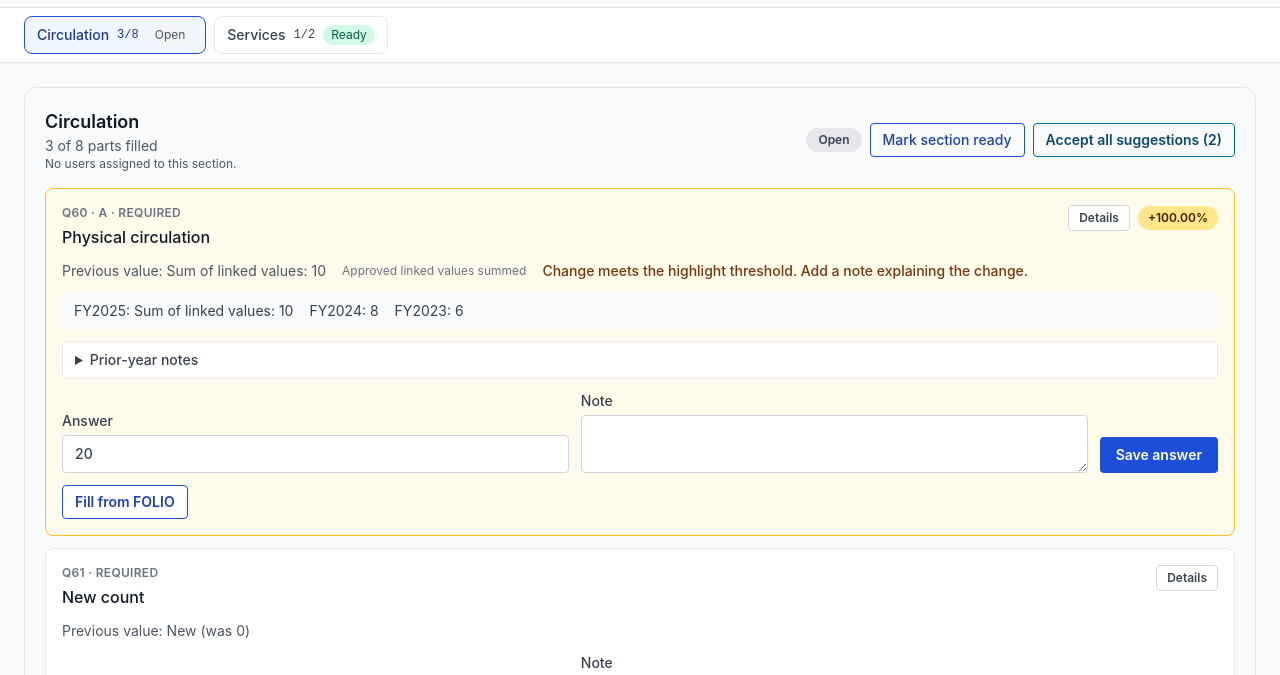
Test: ACRL entry page › shows three prior years and expands historical notes
The width and height of the screenshot is (1280, 675).
(page scrolled)
Expected: the text "3 of 8 parts filled" is shown, [45,137,158,154]
Expected: the text "FY2025: Sum of linked values: 10" is shown, [74,301,293,321]
Step 1. Click the heading "Prior-year notes" → (144, 360), box [90,351,198,368]
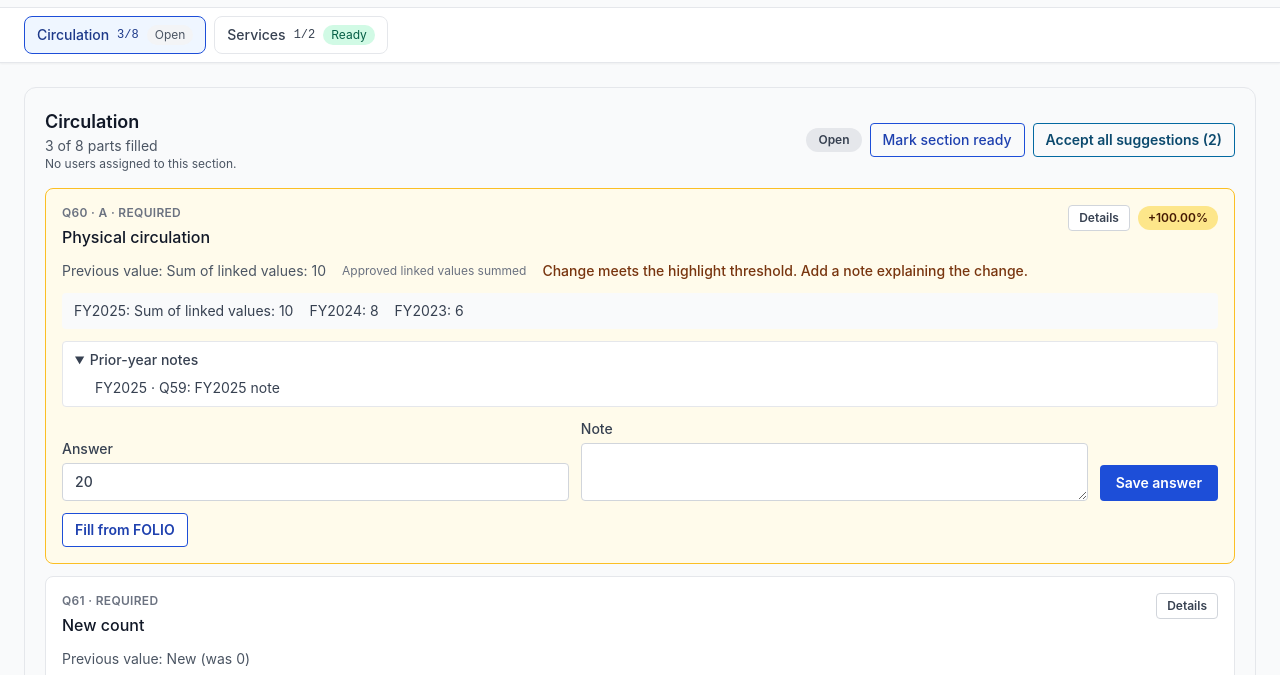
Result: the list item "FY2025 · Q59: FY2025 note" is shown at [95,379,280,396]
